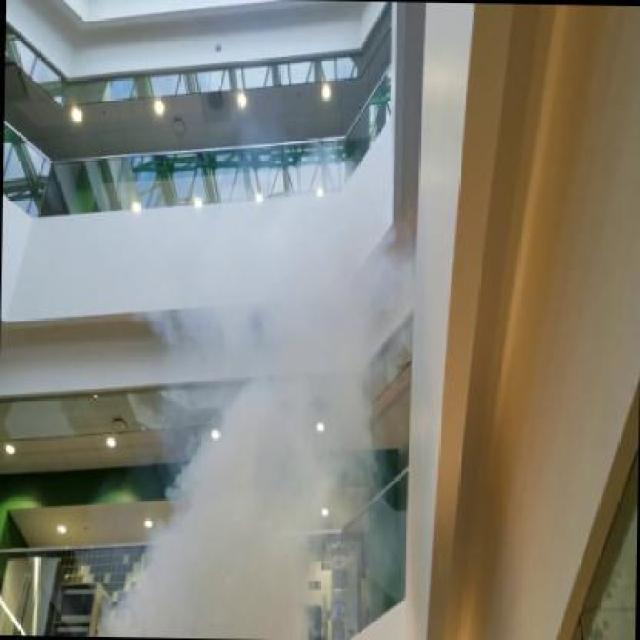fire: (99, 207, 432, 640)
